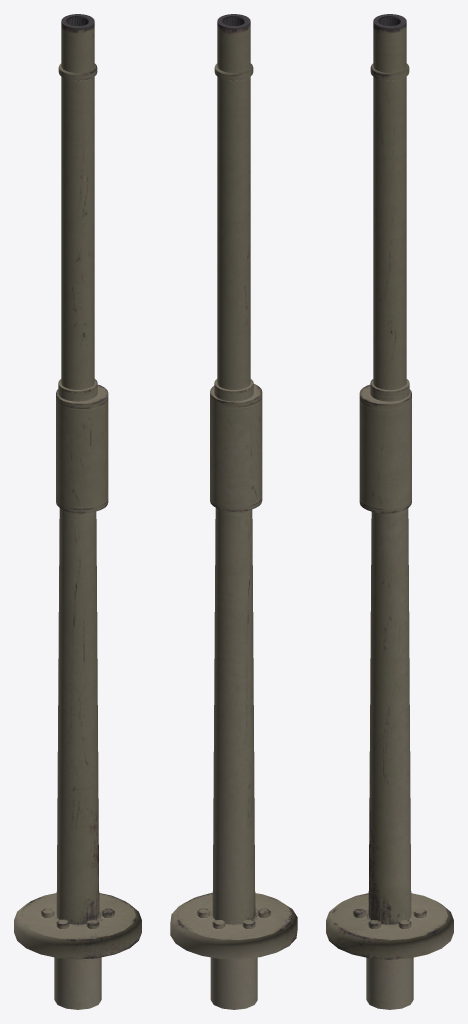
File: Gun_03.glb
The picture shows the model from 3 angles, left to right: view 1: azimuth 90°, elevation 25°; view 2: azimuth 150°, elevation 25°; view 3: azimuth 270°, elevation 25°; orthographic projection.
Parts seen in each view (by area): view 1: set_0_group_0; view 2: set_0_group_0; view 3: set_0_group_0.
Boxes of the visible parts, left/top/right/bottom form: set_0_group_0: left=14, top=14, right=141, bottom=1009; set_0_group_0: left=170, top=14, right=297, bottom=1009; set_0_group_0: left=326, top=14, right=453, bottom=1009.
Size of the model in its own units: 0.7 by 5.91 by 0.7.
1 material, 1 textured.
